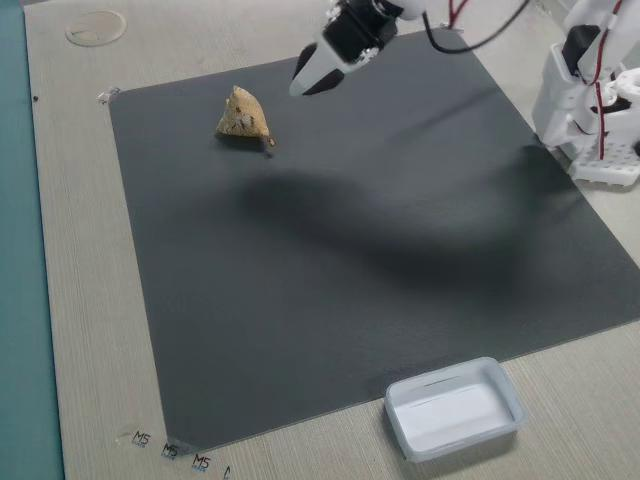objects: (270, 14, 411, 100)
